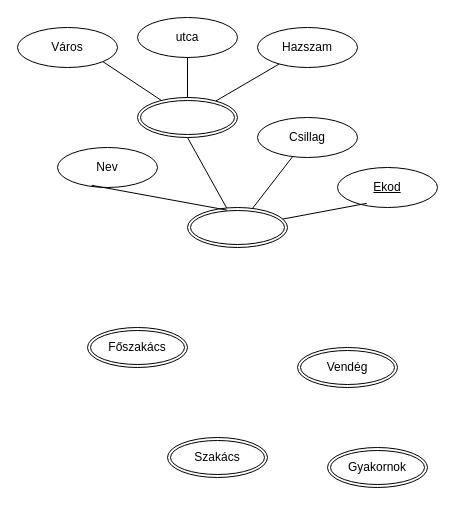
The diagram is 455 pixels wide and 505 high, and some of its shapes have lost their labels. The shapes that lost their labels are listed below. From the top down, each one's centre as x and y in pixels, then its label:
At point (187, 117): "Cím".
At point (237, 227): "Étterem".
